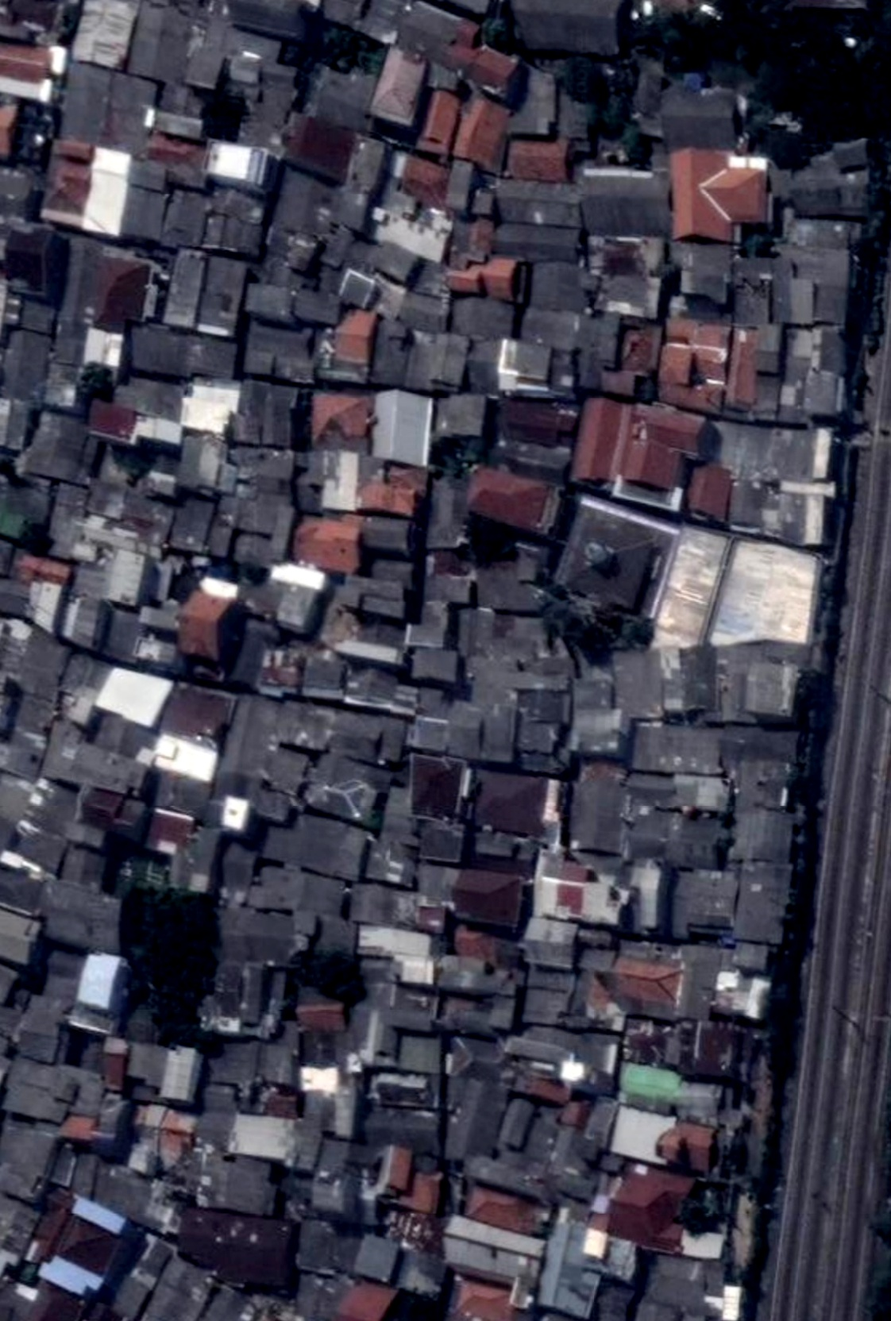building: (212, 690, 408, 835), (104, 1230, 295, 1321), (549, 491, 680, 620), (570, 394, 718, 500), (389, 0, 532, 104), (39, 136, 174, 245), (707, 536, 824, 657), (452, 606, 579, 714), (350, 923, 441, 1070), (643, 523, 733, 659), (171, 1203, 303, 1294), (619, 1002, 749, 1086), (666, 146, 774, 245), (66, 1147, 183, 1236), (55, 59, 162, 156), (529, 1206, 619, 1321), (595, 1157, 698, 1256), (295, 445, 429, 521), (47, 233, 140, 336), (655, 316, 746, 415), (435, 1212, 548, 1291), (459, 459, 567, 540), (705, 419, 835, 486), (217, 692, 299, 796), (168, 570, 254, 669), (255, 165, 338, 267), (0, 1054, 106, 1133), (161, 247, 252, 339), (612, 646, 725, 720), (723, 477, 833, 551), (769, 235, 854, 327), (772, 142, 870, 221), (614, 1057, 727, 1125), (125, 320, 241, 386), (573, 163, 673, 239), (531, 852, 632, 927), (243, 283, 318, 384), (35, 877, 130, 956), (88, 442, 181, 521), (42, 733, 149, 801), (593, 941, 685, 1018), (182, 1148, 283, 1217), (235, 56, 308, 150), (564, 392, 633, 490), (298, 1032, 361, 1139), (775, 325, 845, 421), (470, 768, 563, 840), (286, 809, 374, 885), (19, 407, 100, 489), (250, 553, 330, 636), (124, 0, 201, 86), (0, 616, 77, 702), (275, 107, 361, 183), (722, 321, 788, 420), (510, 0, 626, 56), (472, 535, 550, 618), (331, 134, 396, 233), (4, 992, 83, 1073), (92, 656, 176, 732), (632, 1252, 724, 1321), (444, 1066, 510, 1162), (300, 60, 381, 135), (566, 761, 630, 855), (245, 862, 350, 919), (139, 1251, 223, 1321), (216, 905, 309, 968), (374, 194, 457, 264), (367, 45, 435, 130), (447, 863, 531, 931), (229, 378, 306, 452), (459, 1180, 552, 1241), (449, 92, 519, 173), (157, 679, 237, 749), (368, 387, 437, 468), (0, 770, 82, 838), (731, 860, 795, 947), (125, 1099, 201, 1172), (198, 185, 271, 259), (659, 84, 739, 150), (0, 1118, 61, 1204), (124, 1040, 205, 1104), (69, 0, 141, 72), (91, 255, 155, 336), (537, 1119, 610, 1190), (110, 483, 184, 553), (630, 721, 724, 775), (494, 392, 581, 450), (296, 1274, 402, 1321), (317, 760, 389, 828), (0, 817, 72, 885), (74, 782, 153, 843), (676, 943, 737, 1022), (494, 178, 585, 230), (208, 20, 284, 82), (110, 369, 191, 427), (652, 1113, 725, 1177), (404, 328, 472, 396), (667, 239, 736, 305), (204, 959, 270, 1028), (0, 326, 57, 405), (672, 870, 738, 937), (404, 754, 469, 822), (607, 1104, 677, 1167), (292, 512, 363, 574), (362, 1102, 445, 1155), (342, 663, 423, 717), (444, 249, 525, 303), (564, 969, 631, 1033), (685, 1016, 747, 1085), (492, 219, 583, 266), (705, 726, 802, 770), (85, 706, 157, 765), (167, 822, 225, 895), (227, 1108, 301, 1165), (54, 1216, 122, 1278), (665, 809, 733, 871), (0, 41, 66, 104), (502, 1024, 576, 1079), (356, 462, 428, 518), (434, 952, 518, 1000), (95, 544, 156, 610), (310, 1140, 362, 1217), (148, 730, 222, 784), (740, 658, 802, 722), (178, 376, 242, 437), (310, 391, 376, 450), (392, 151, 458, 210), (0, 478, 54, 550), (731, 807, 798, 865), (210, 1042, 298, 1086), (332, 572, 411, 621), (227, 443, 297, 498), (324, 709, 390, 767), (229, 485, 297, 541), (86, 1090, 141, 1159), (709, 964, 773, 1023), (293, 1218, 356, 1277), (44, 481, 91, 560), (203, 138, 273, 191), (510, 65, 561, 137), (36, 1251, 106, 1303), (416, 87, 467, 158), (528, 259, 593, 314), (569, 1029, 624, 1094), (72, 947, 126, 1013), (372, 981, 439, 1034), (425, 476, 471, 553), (159, 186, 212, 252), (223, 0, 308, 41), (782, 212, 863, 255), (519, 914, 581, 970), (596, 269, 663, 320), (367, 318, 415, 389), (175, 430, 229, 493), (355, 921, 434, 964), (328, 625, 407, 668), (361, 235, 425, 288), (349, 882, 420, 929), (449, 1276, 523, 1321), (56, 649, 113, 707), (450, 294, 520, 341), (733, 758, 795, 811), (150, 768, 213, 820), (518, 303, 583, 353), (450, 210, 506, 268), (258, 741, 314, 799), (569, 705, 631, 757), (184, 19, 229, 90), (684, 461, 736, 522), (329, 305, 380, 367), (166, 494, 216, 556), (617, 1061, 687, 1105), (255, 641, 309, 698), (439, 995, 515, 1035), (440, 700, 489, 762), (157, 1042, 206, 1104), (506, 137, 572, 183), (58, 592, 111, 649), (82, 394, 141, 445), (317, 448, 363, 512), (38, 944, 86, 1005), (350, 1231, 404, 1285), (364, 836, 420, 888), (577, 312, 625, 372), (354, 0, 415, 47), (622, 806, 673, 862), (299, 646, 350, 702), (213, 838, 262, 896), (616, 319, 664, 378), (444, 1035, 504, 1082), (511, 1067, 575, 1111), (57, 841, 112, 892), (9, 690, 60, 745), (243, 779, 299, 829), (144, 129, 207, 173), (0, 904, 43, 968), (452, 604, 501, 660), (396, 289, 454, 336), (494, 1095, 539, 1155), (396, 1248, 450, 1298), (0, 725, 48, 781), (369, 1069, 436, 1109), (145, 807, 197, 858), (68, 1194, 129, 1237), (100, 606, 145, 664), (630, 859, 667, 929), (374, 1143, 418, 1201), (76, 783, 127, 833), (435, 392, 488, 440), (478, 703, 519, 764), (579, 1096, 619, 1158), (335, 1282, 398, 1321), (288, 286, 344, 329), (411, 858, 460, 907), (334, 265, 384, 313), (513, 715, 564, 762), (0, 1195, 38, 1258), (672, 773, 732, 812), (405, 599, 451, 649), (26, 1283, 86, 1321), (199, 1285, 262, 1321), (398, 1167, 445, 1215), (409, 644, 463, 685), (569, 666, 616, 713), (418, 819, 467, 864), (350, 1008, 387, 1067), (362, 516, 414, 557), (143, 107, 205, 141), (136, 593, 185, 636), (13, 552, 73, 587), (382, 785, 417, 844), (0, 165, 37, 220), (193, 1106, 236, 1153), (443, 158, 479, 214), (43, 361, 84, 410), (522, 986, 570, 1027), (396, 1034, 444, 1075), (624, 770, 677, 807), (0, 397, 36, 451), (354, 1009, 386, 1069), (517, 688, 570, 724), (82, 326, 125, 370), (98, 1036, 131, 1093), (132, 629, 180, 668), (52, 318, 88, 367), (407, 713, 451, 753), (295, 999, 348, 1032), (29, 581, 63, 632), (557, 88, 590, 140), (425, 571, 475, 605), (604, 1235, 639, 1283), (368, 553, 417, 587), (62, 817, 107, 852), (730, 940, 773, 974), (680, 1230, 726, 1260), (557, 1094, 593, 1131), (0, 577, 29, 619), (397, 956, 436, 985), (203, 1083, 238, 1112), (0, 104, 18, 158), (61, 1115, 97, 1141), (559, 1058, 586, 1086), (0, 964, 18, 1004), (732, 649, 755, 672), (329, 558, 358, 571), (574, 1186, 592, 1196)
tree: (113, 888, 220, 1021), (768, 0, 863, 95), (626, 0, 711, 75), (795, 75, 874, 155), (768, 871, 822, 988), (699, 0, 781, 74), (754, 983, 801, 1082), (827, 8, 891, 79), (744, 47, 810, 112), (294, 948, 369, 1005), (540, 597, 608, 655), (553, 49, 616, 107), (761, 116, 819, 174), (787, 661, 841, 722), (193, 92, 254, 145), (678, 1181, 730, 1240), (460, 515, 518, 567), (856, 185, 891, 262), (478, 6, 525, 53), (587, 90, 634, 136), (211, 605, 247, 660), (20, 936, 55, 990), (155, 1020, 210, 1051), (617, 125, 656, 167), (740, 100, 778, 142), (740, 222, 776, 261), (618, 616, 654, 654), (399, 1293, 450, 1319), (117, 445, 153, 480), (81, 363, 114, 400), (19, 523, 53, 558), (211, 552, 242, 587), (239, 558, 271, 589), (466, 431, 495, 461), (282, 976, 302, 1015), (699, 429, 720, 460), (726, 1141, 748, 1170), (435, 435, 460, 457)
